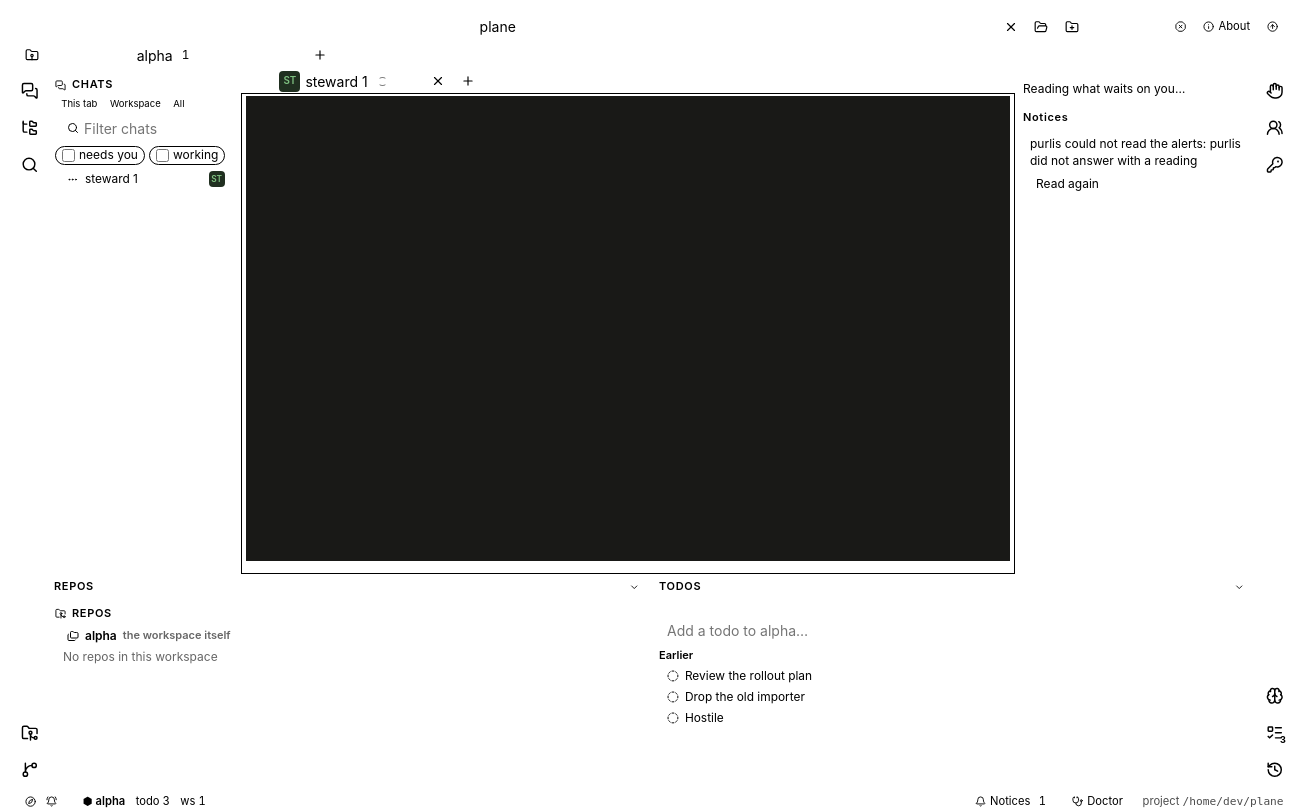
Test: a todo row › draws no HTML from the todo's file, and no javascript: link
The image size is (1304, 812).
Click the button "Hostile" at [704, 717], box [659,708,1250,728]
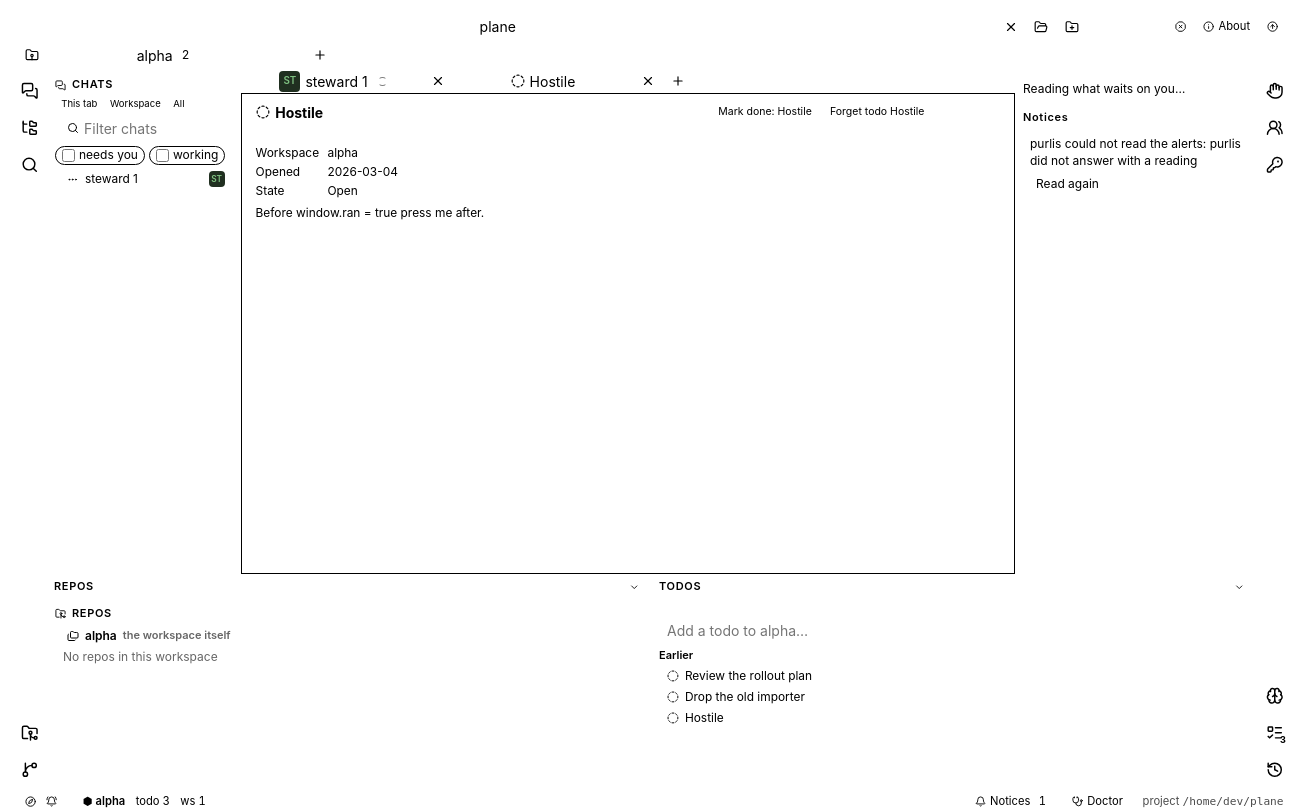
Now the element with test id "todo-body" shows "press me", box [401,205,452,220]
